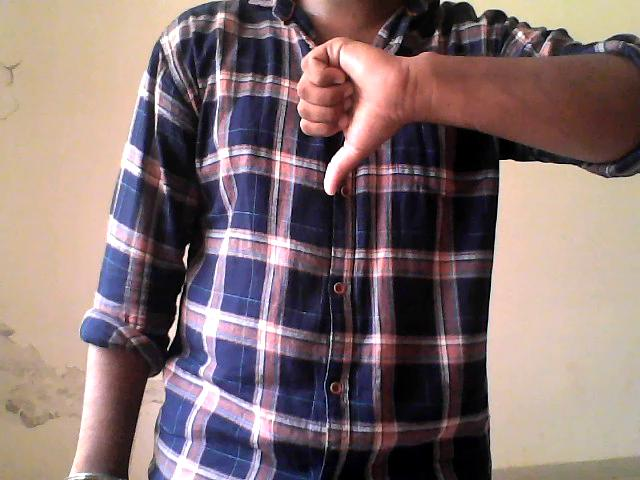thumbs-down: (282, 30, 438, 199)
